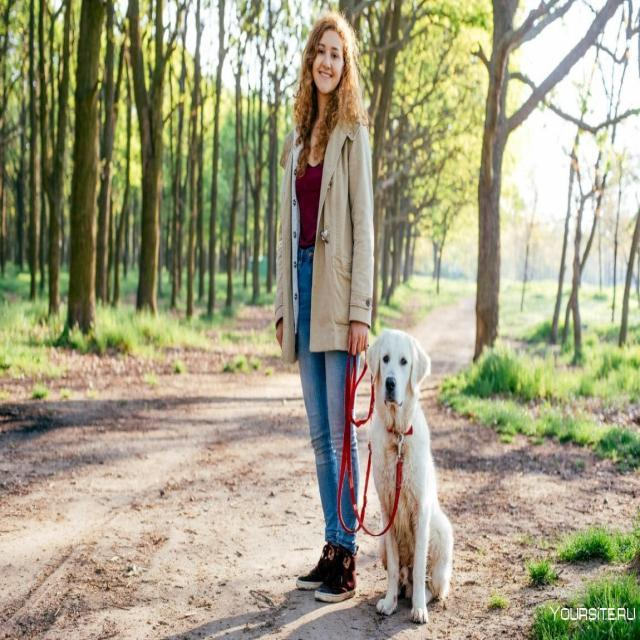Dogs: (364, 328, 456, 628)
